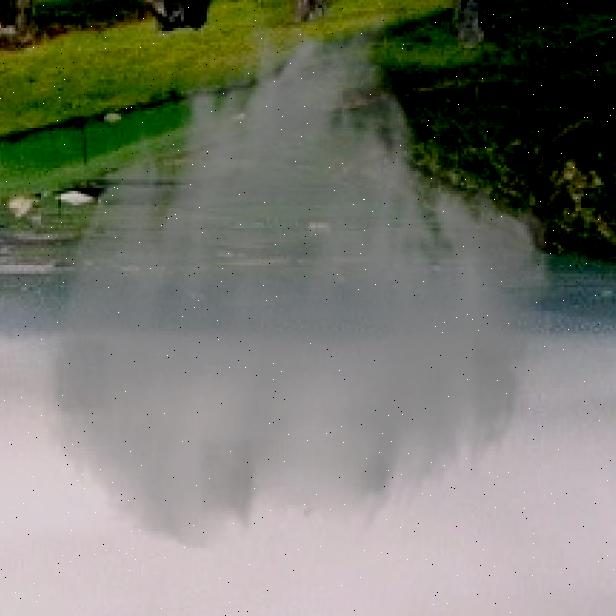smoke: (38, 0, 558, 553)
